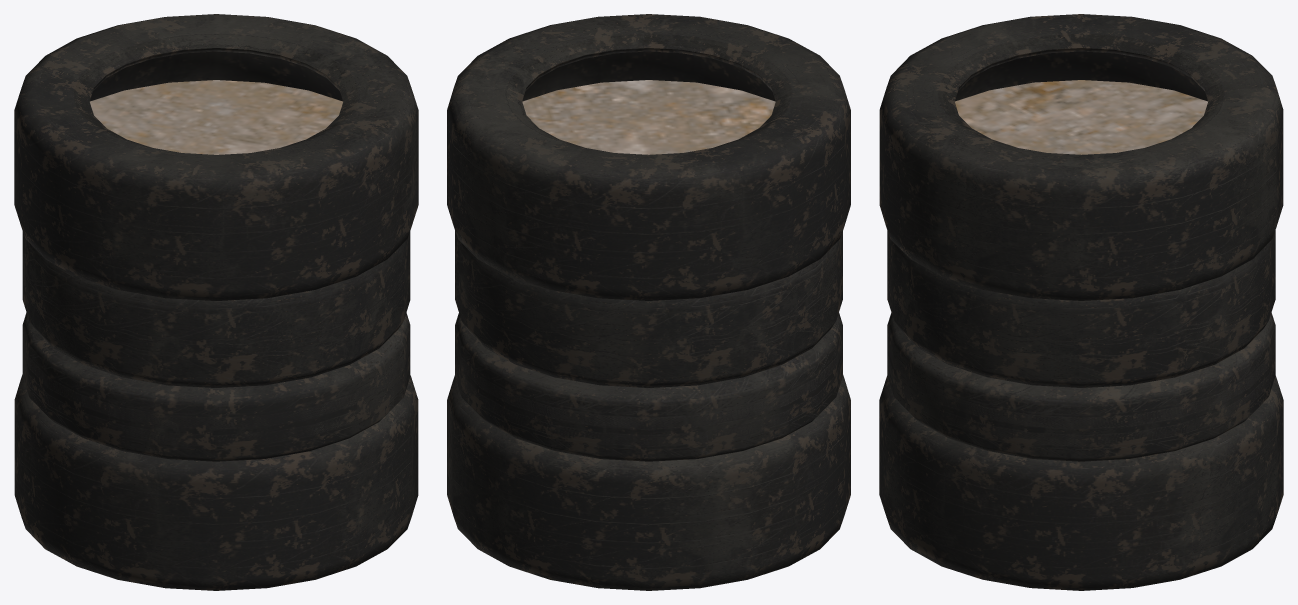
File: TrTiresStackA3A.fbx
3 renders of one model, left to right at view 1: azimuth 30°, elevation 25°; view 2: azimuth 150°, elevation 25°; view 3: azimuth 270°, elevation 25°, orthographic.
Parts seen in each view (by area): view 1: TrTiresStackA3A_LOD0; view 2: TrTiresStackA3A_LOD0; view 3: TrTiresStackA3A_LOD0.
Boxes of the visible parts, bbox=[...] form: TrTiresStackA3A_LOD0: bbox=[14, 14, 418, 590]; TrTiresStackA3A_LOD0: bbox=[447, 14, 850, 590]; TrTiresStackA3A_LOD0: bbox=[879, 14, 1283, 590].
Size of what is drawn, in the model's own units: 66.3 by 76.02 by 66.3.
Materials: 1 (1 with a texture image).
